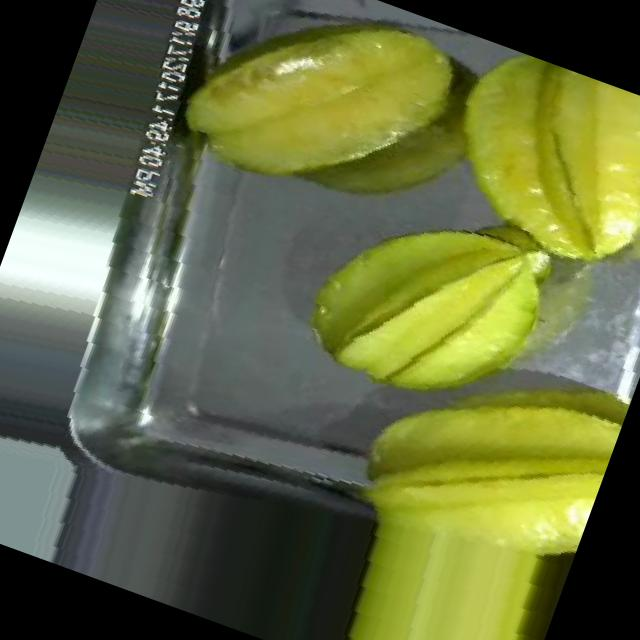fruit: (276, 312, 632, 640), (269, 162, 578, 452), (156, 0, 491, 249), (399, 33, 640, 312)
